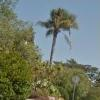Palm tree: (37, 5, 74, 69)
